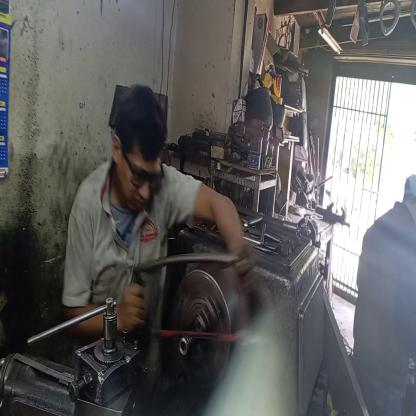lentes: (119, 146, 166, 200)
